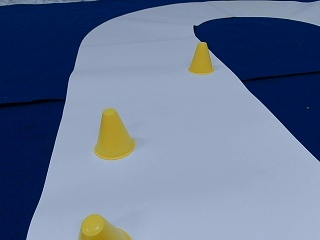cone: (94, 109, 136, 159), (78, 213, 129, 239), (188, 43, 213, 74)
